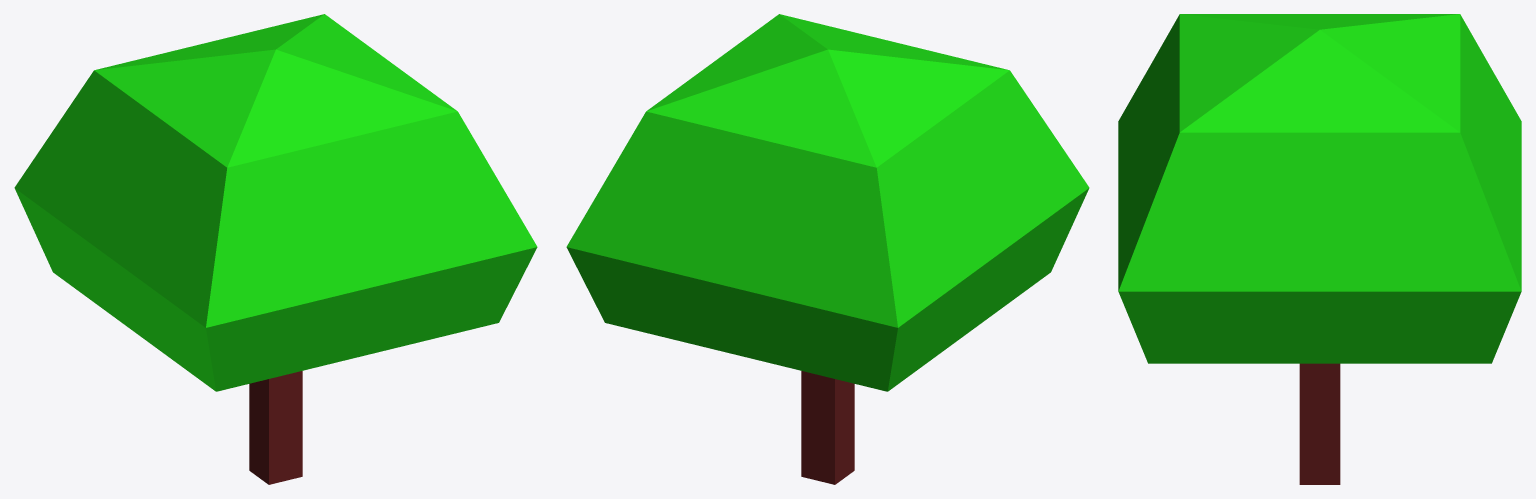
Rendered from Tree2.fbx.
The picture shows the model from 3 angles, left to right: view 1: azimuth 30°, elevation 25°; view 2: azimuth 150°, elevation 25°; view 3: azimuth 270°, elevation 25°; orthographic projection. The views are drawn at different scales.
Visible parts, largest first — view 1: Tree2; view 2: Tree2; view 3: Tree2.
Part boxes in pixels (x1,y1,x2,y2): Tree2: [14, 14, 537, 484]; Tree2: [566, 14, 1089, 484]; Tree2: [1118, 14, 1521, 484].
Size of the model in its own units: 246 by 301 by 246.
